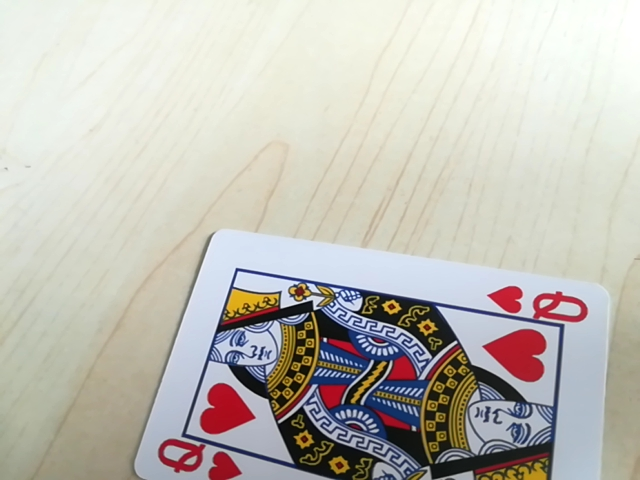hx q: (490, 283, 593, 326), (152, 437, 245, 478)
